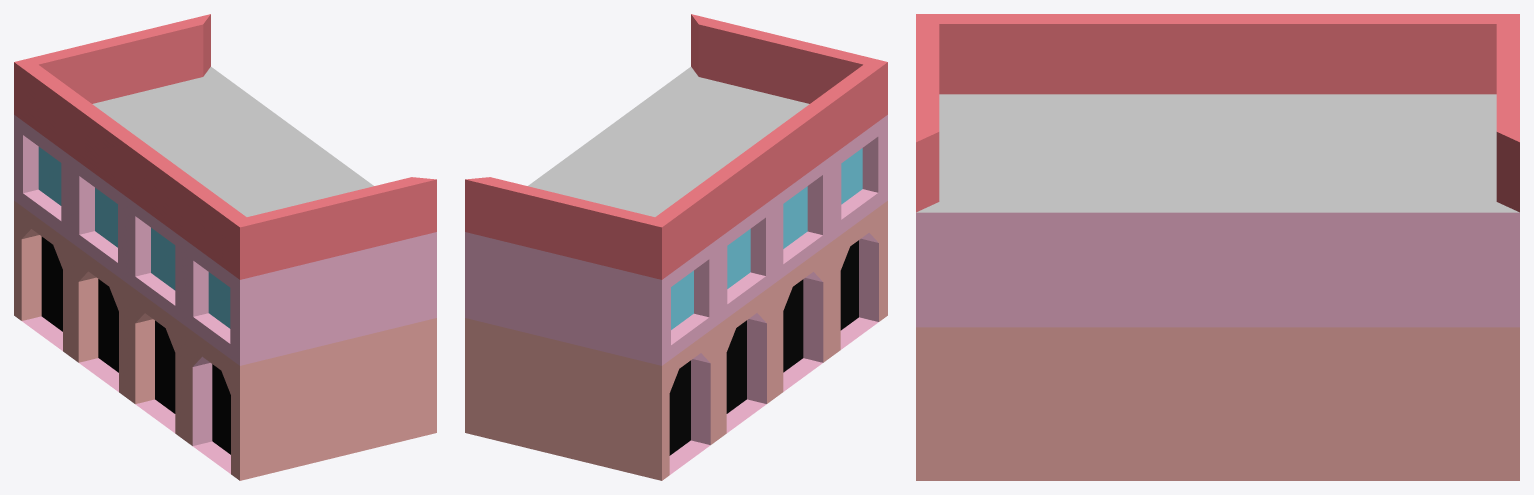
The model's file is House_03.fbx.
3 views of the same model, side by side, from view 1: azimuth 30°, elevation 25°; view 2: azimuth 150°, elevation 25°; view 3: azimuth 270°, elevation 25° (orthographic). The views are drawn at different scales.
Visible parts, largest first — view 1: Building_11; view 2: Building_11; view 3: Building_11.
Part boxes in pixels (bbox=[...]): Building_11: bbox=[14, 14, 436, 480]; Building_11: bbox=[465, 14, 887, 480]; Building_11: bbox=[916, 14, 1519, 480].
Size of the model in its own units: 1633 by 2009 by 3246.
